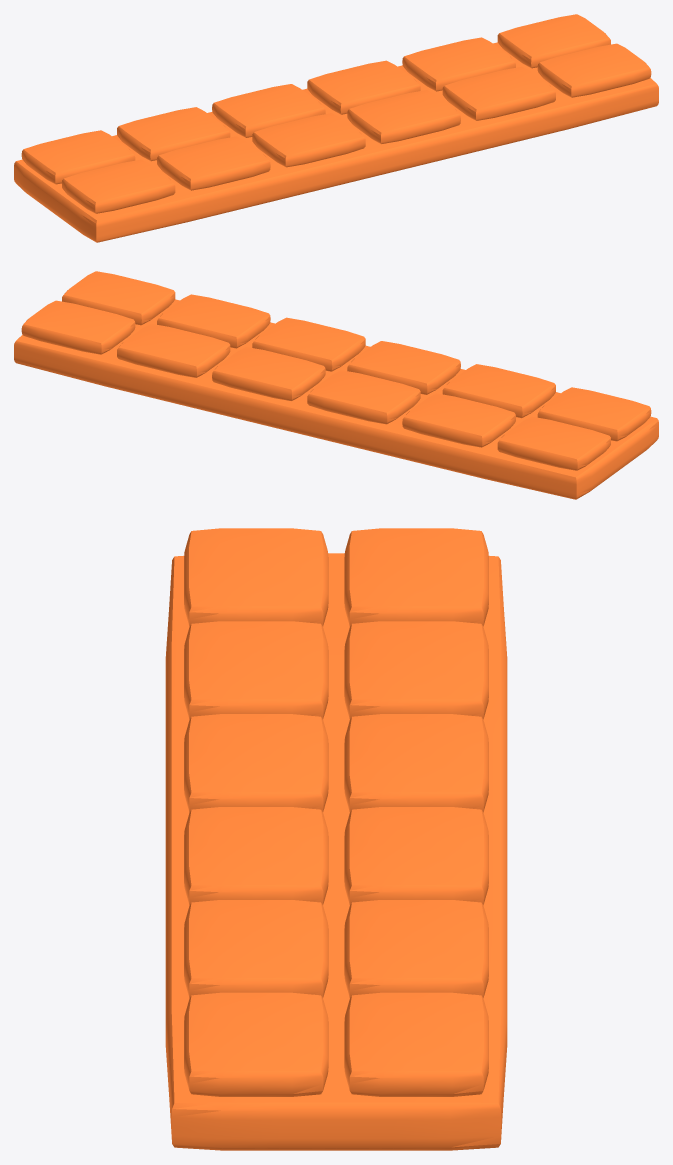
3 renders of one model, top to bottom at view 1: azimuth 30°, elevation 25°; view 2: azimuth 150°, elevation 25°; view 3: azimuth 270°, elevation 25°, orthographic. The views are drawn at different scales.
Parts seen in each view (by area): view 1: Choco-whole; view 2: Choco-whole; view 3: Choco-whole.
Part boxes in pixels (box(x1,y1,x2,y2)): Choco-whole: box(14, 14, 658, 242); Choco-whole: box(14, 271, 658, 499); Choco-whole: box(165, 528, 507, 1150).
Bounding box in the file's own units: 0.0846 × 0.00594 × 0.022.
